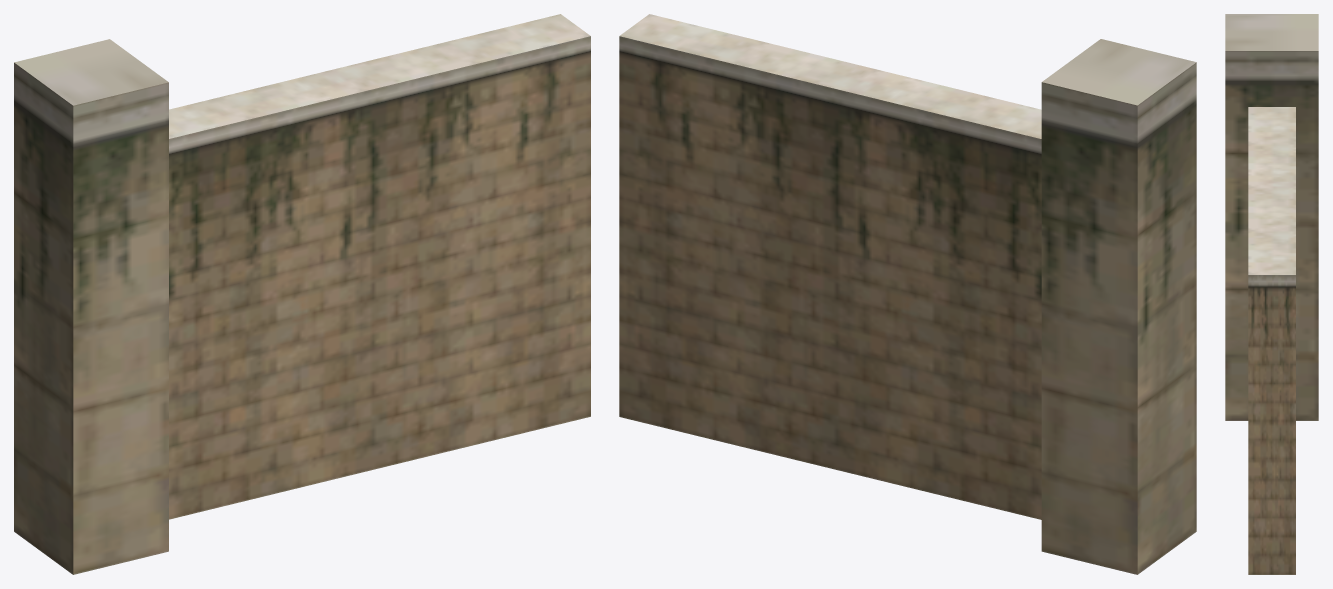
Rendered from thm_nboo_thed_imprv_wallendpiece_s01_a1_l2.fbx.
The picture shows the model from 3 angles, left to right: view 1: azimuth 30°, elevation 25°; view 2: azimuth 150°, elevation 25°; view 3: azimuth 270°, elevation 25°; orthographic projection. The views are drawn at different scales.
Visible parts, largest first — view 1: mesh_node; view 2: mesh_node; view 3: mesh_node.
Part boxes in pixels (x1,y1,x2,y2): mesh_node: [14, 14, 590, 574]; mesh_node: [619, 14, 1196, 574]; mesh_node: [1225, 14, 1318, 574].
Bounding box in the file's own units: 11.28 × 9.5 × 2.17.
